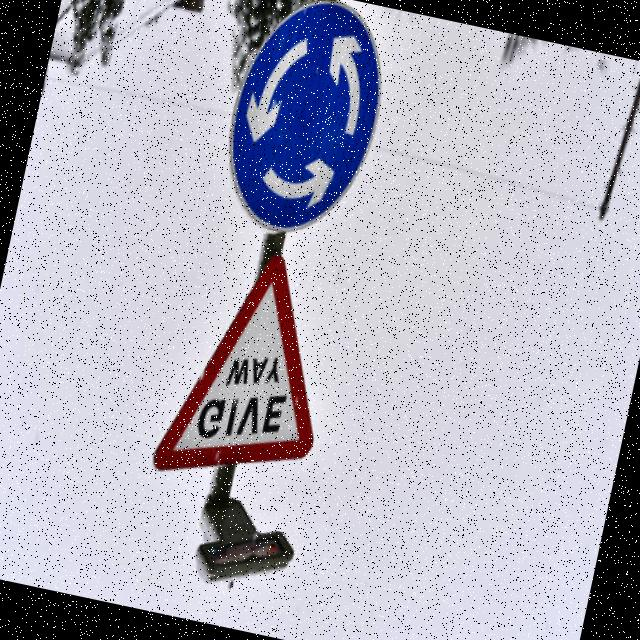round_about: (210, 0, 405, 253)
